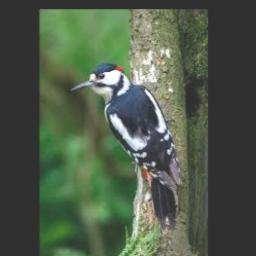Woodpecker: (71, 63, 183, 229)
